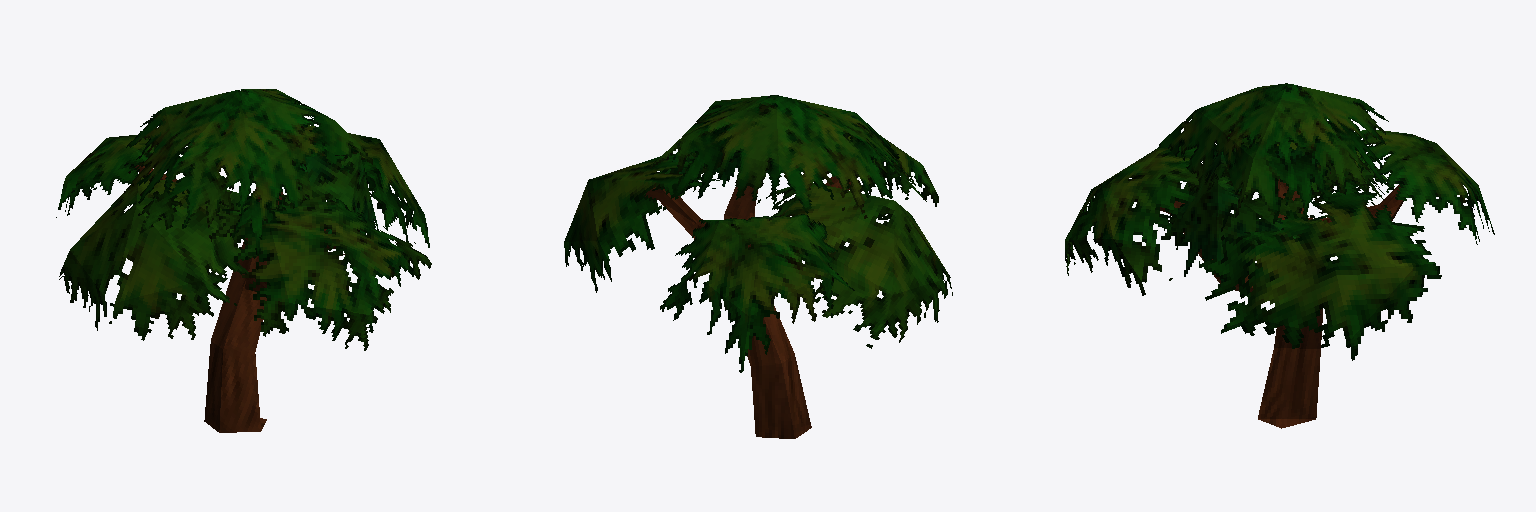
The picture shows the model from 3 angles: view 1: azimuth 30°, elevation 25°; view 2: azimuth 150°, elevation 25°; view 3: azimuth 270°, elevation 25°; orthographic projection.
Parts seen in each view (by area): view 1: treet1.021_Group27971; view 2: treet1.021_Group27971; view 3: treet1.021_Group27971.
Boxes of the visible parts, x1=… form: treet1.021_Group27971: x1=56, y1=89, x2=431, y2=432; treet1.021_Group27971: x1=564, y1=95, x2=952, y2=438; treet1.021_Group27971: x1=1065, y1=83, x2=1494, y2=428.
Bounding box in the file's own units: 0.3081 × 0.2916 × 0.3409.
1 materials, 1 textured.